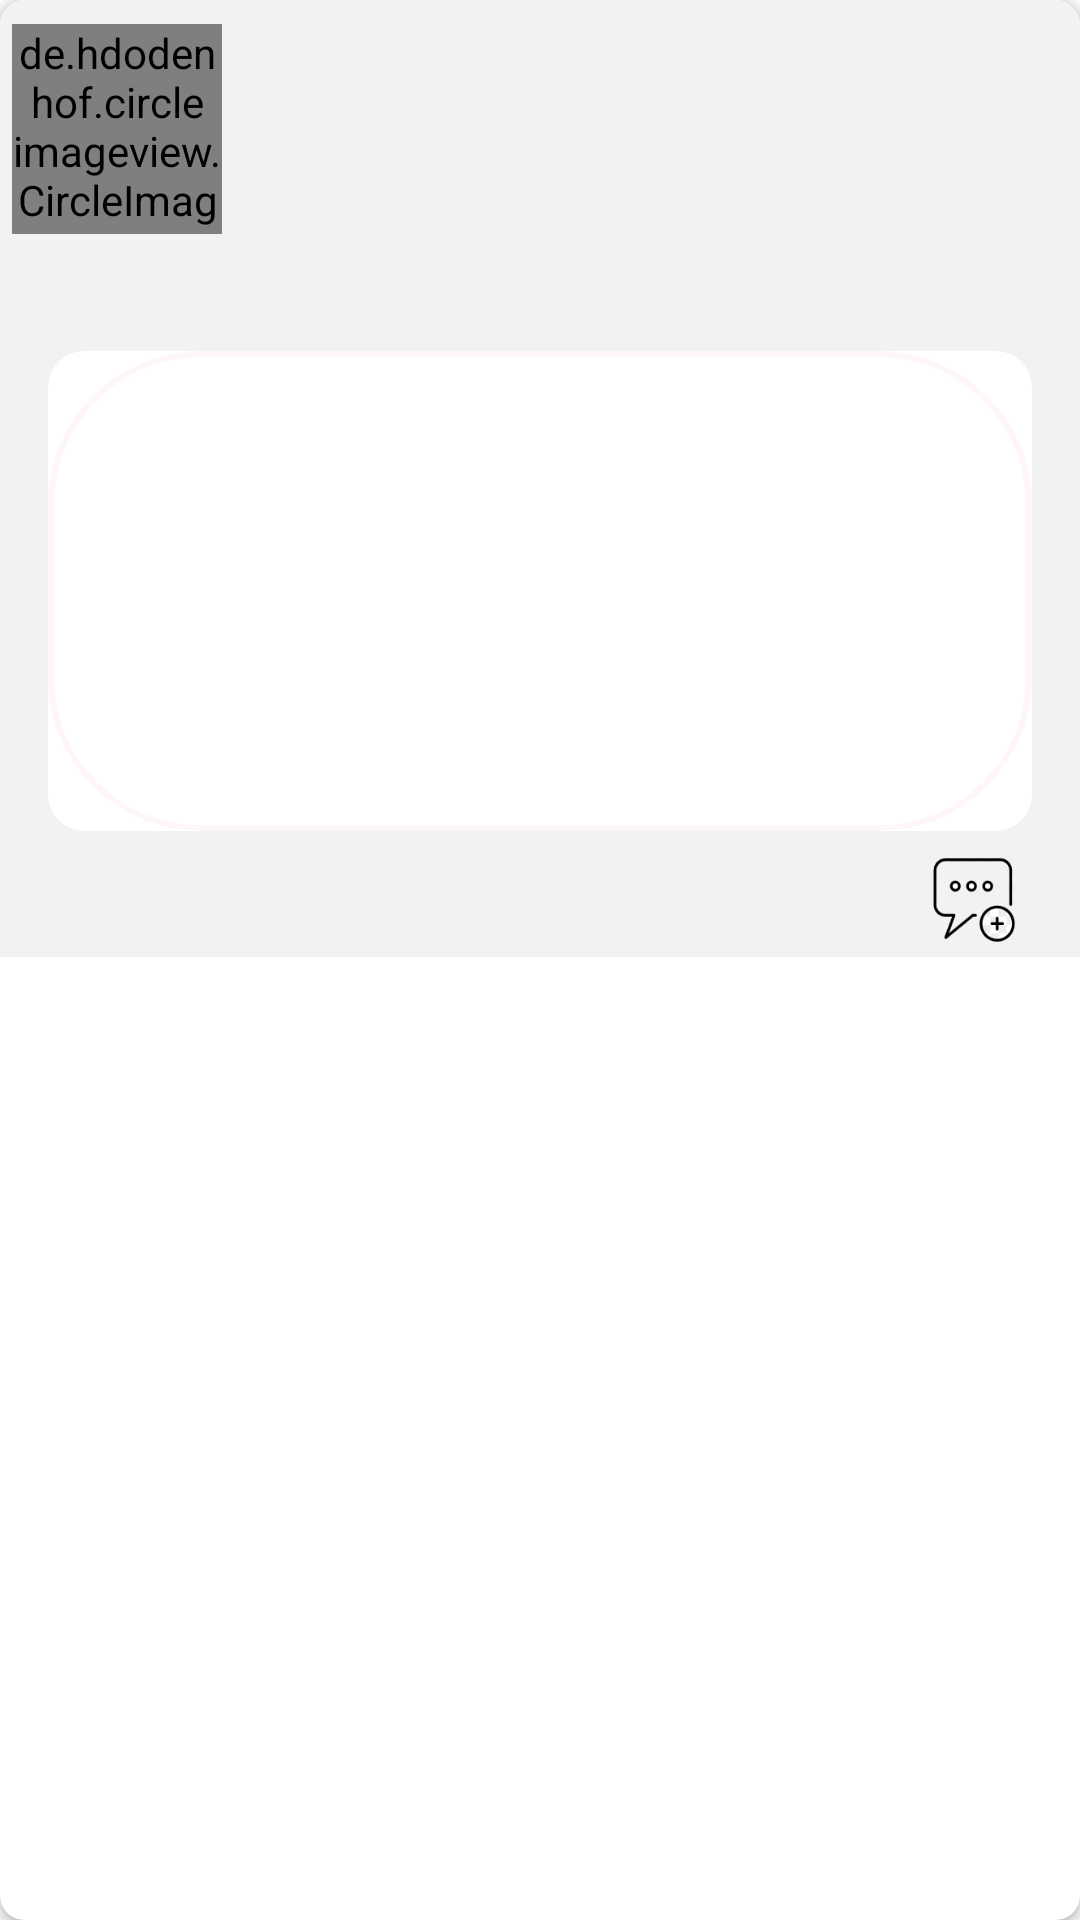

Point at icon controls on the screen. Image size 1080px x 1920px, points as point (x, y).
insert comment: point (974, 900)
